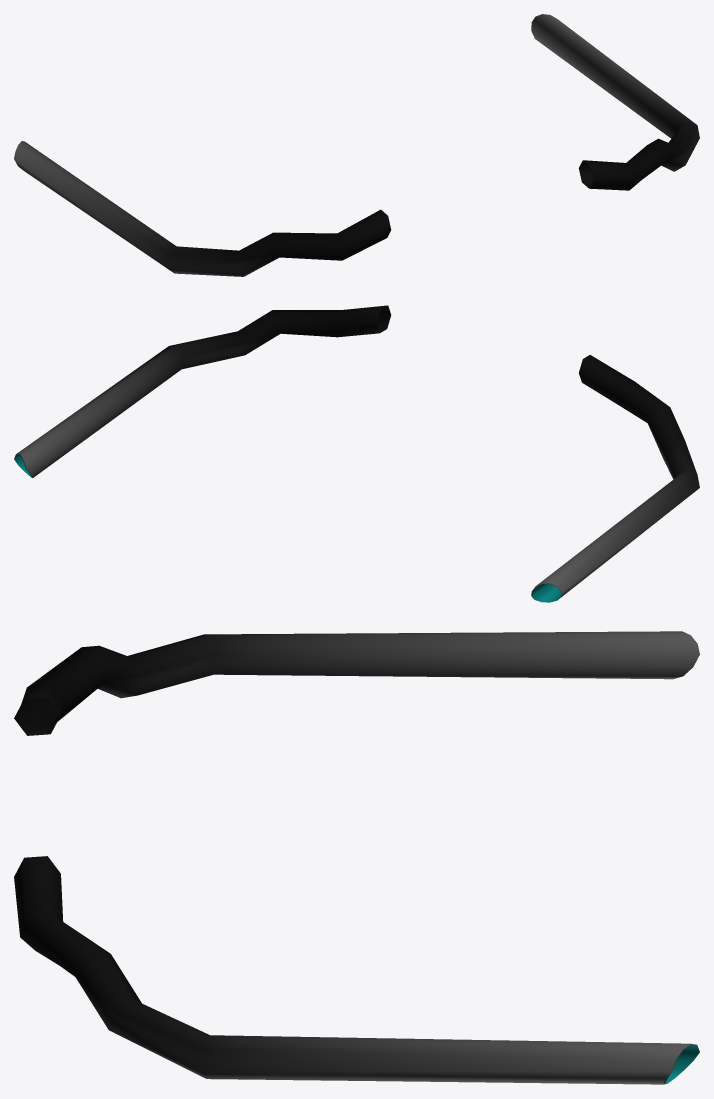
File: Car_Buick_GrandNational_1987_Exhausts_SetD.fbx
3 views of the same model, one above another, from view 1: azimuth 30°, elevation 25°; view 2: azimuth 150°, elevation 25°; view 3: azimuth 270°, elevation 25° (orthographic). The views are drawn at different scales.
Parts seen in each view (by area): view 1: Exhausts 6; view 2: Exhausts 6; view 3: Exhausts 6.
Part boxes in pixels (x1,y1,x2,y2): Exhausts 6: [14, 14, 699, 276]; Exhausts 6: [14, 305, 699, 602]; Exhausts 6: [14, 631, 699, 1084].
Size of the model in its own units: 1.41 by 0.158 by 0.9534.
